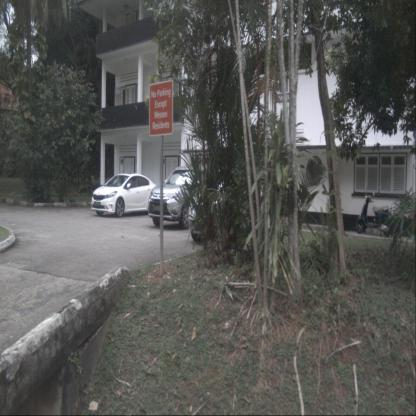vehicle-car: (188, 166, 264, 246), (147, 167, 211, 229), (91, 174, 157, 218)
vehicle-motorcycle: (356, 189, 393, 238)
